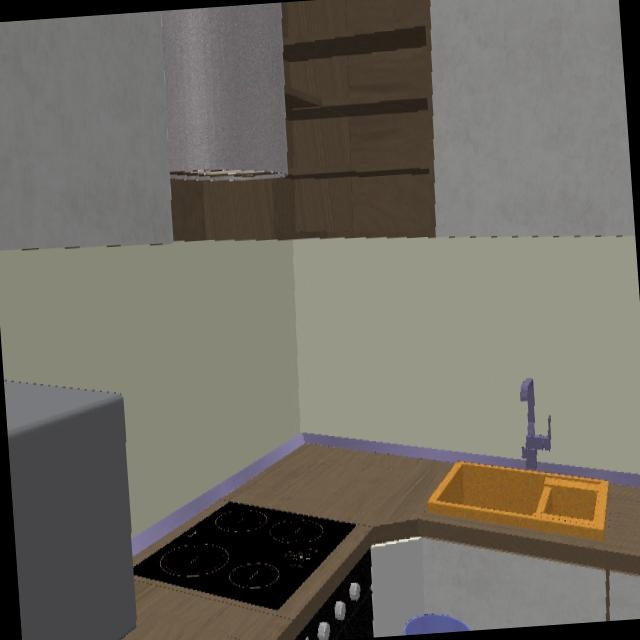microwave: (3, 380, 138, 640)
oven: (295, 558, 374, 640)
shelf: (137, 0, 437, 242)
sink: (425, 462, 607, 542)
stove: (134, 503, 355, 608)
